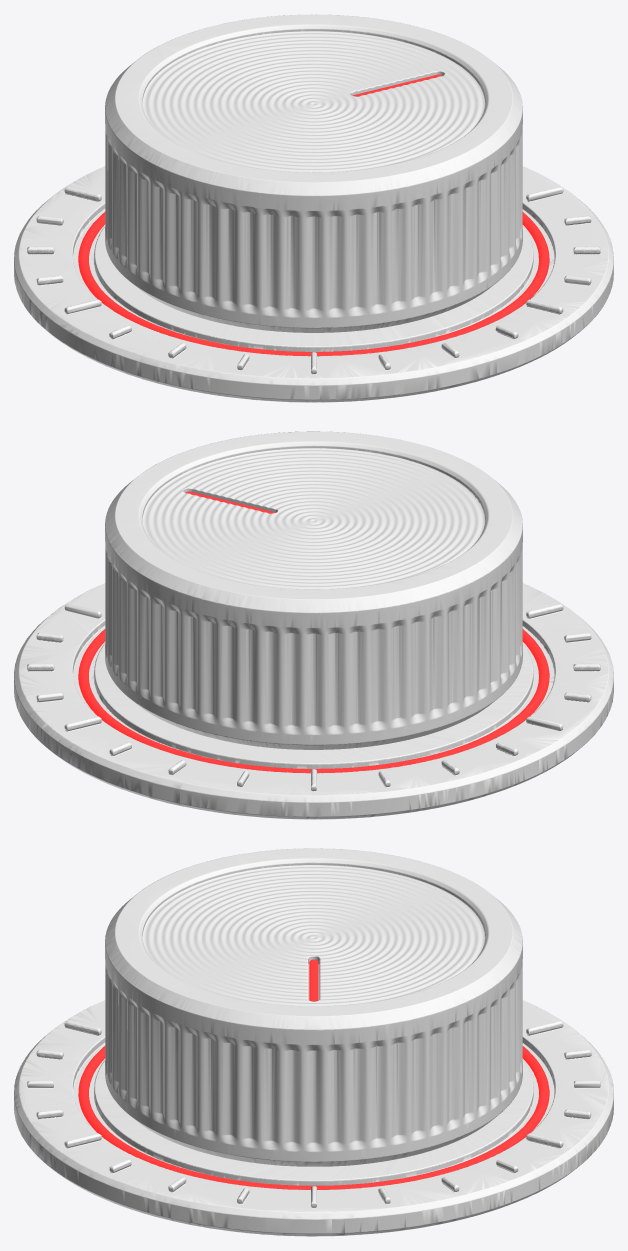
File: knob-motion-direction.glb
3 renders of one model, top to bottom at view 1: azimuth 30°, elevation 25°; view 2: azimuth 150°, elevation 25°; view 3: azimuth 270°, elevation 25°, orthographic.
Visible parts, largest first — view 1: Knob, Dial, GlowRing; view 2: Knob, Dial, GlowRing; view 3: Knob, Dial, GlowRing.
Part boxes in pixels (x1=…): Knob: x1=105, y1=14, x2=522, y2=332; Dial: x1=14, y1=166, x2=613, y2=402; GlowRing: x1=78, y1=212, x2=549, y2=356; Knob: x1=105, y1=431, x2=522, y2=749; Dial: x1=14, y1=583, x2=613, y2=819; GlowRing: x1=78, y1=629, x2=549, y2=773; Knob: x1=105, y1=848, x2=522, y2=1166; Dial: x1=14, y1=1000, x2=613, y2=1236; GlowRing: x1=78, y1=1046, x2=549, y2=1189.
Size of the model in its own units: 2.24 by 0.7403 by 2.24.
